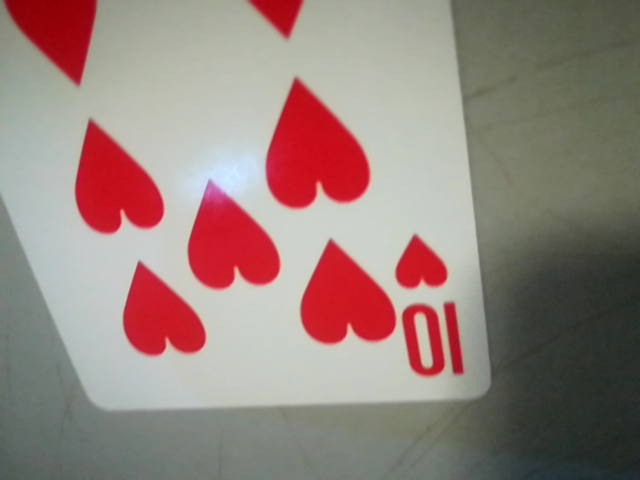hx 10: (390, 228, 480, 391)
